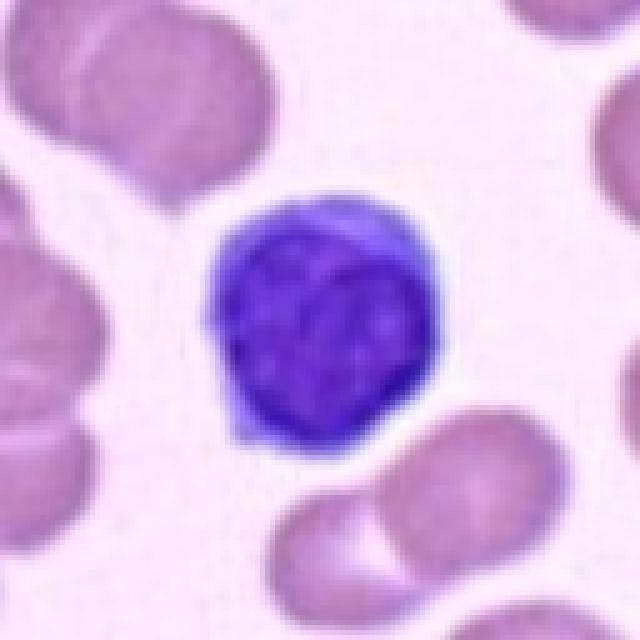lympho: (185, 184, 463, 470)
